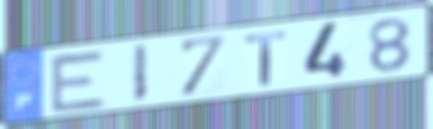4: (300, 19, 356, 84)
7: (177, 33, 230, 101)
8: (366, 15, 414, 75)
E: (46, 49, 109, 116)
I: (130, 41, 150, 106)
T: (241, 28, 289, 88)
